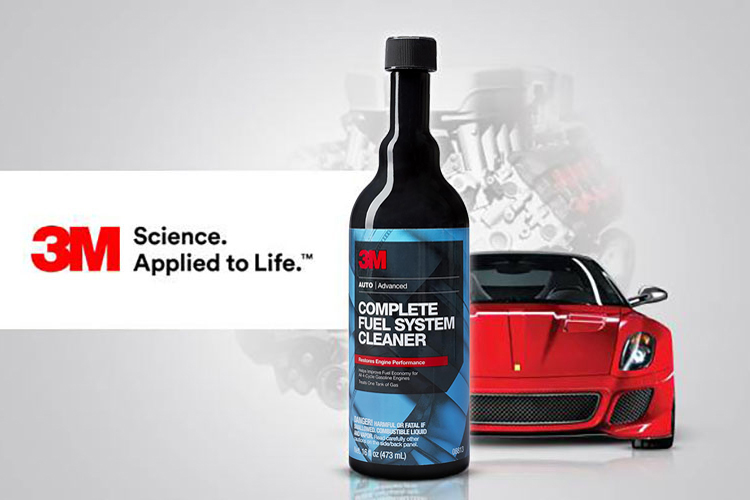3M: (19, 216, 125, 283), (357, 245, 394, 272)
